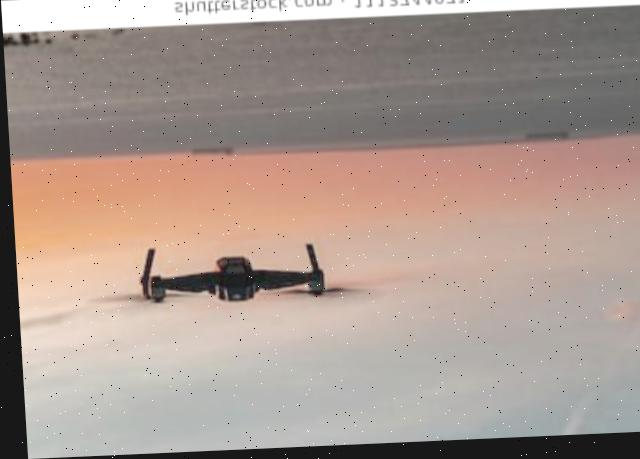drone: (49, 187, 409, 368)
